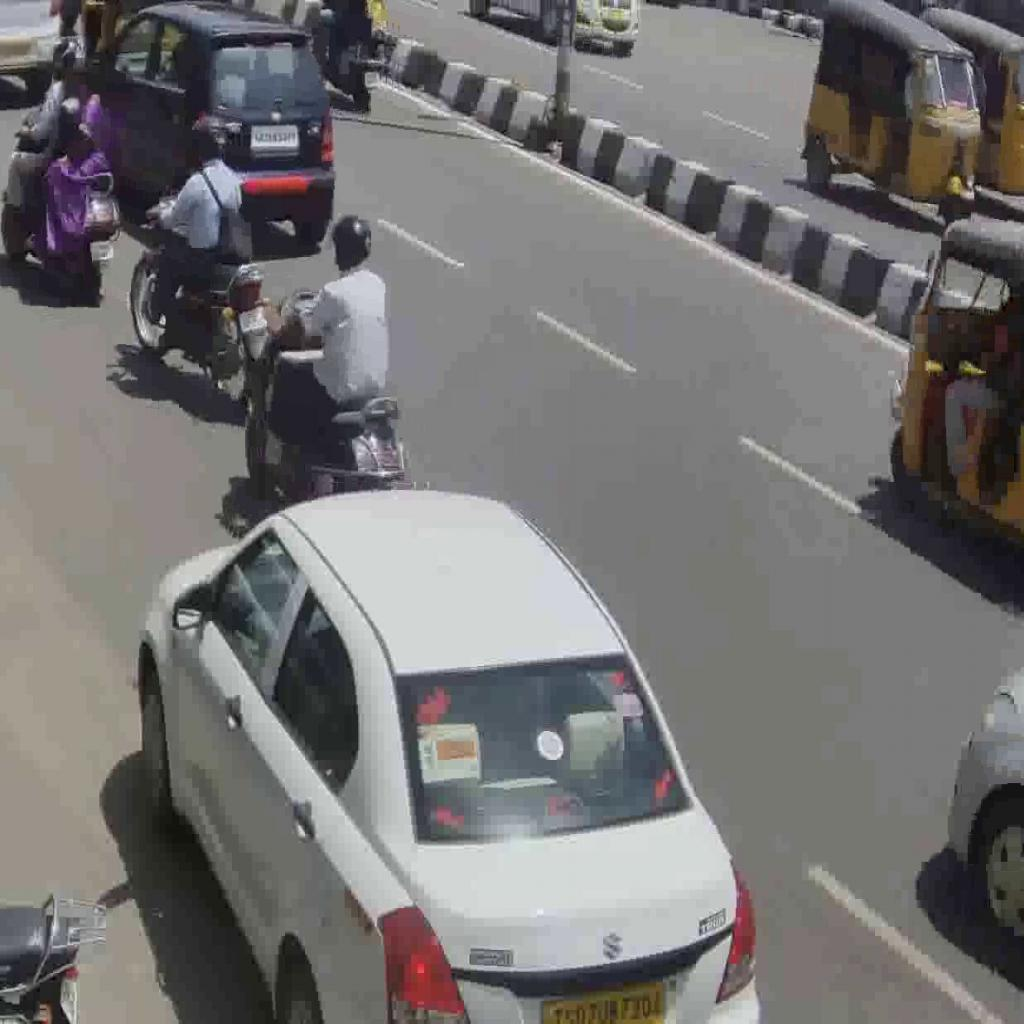bike: (244, 284, 408, 498), (129, 193, 272, 410), (2, 105, 120, 305)
helmet: (330, 210, 374, 274), (188, 112, 228, 166), (51, 38, 85, 82)
lisc: (238, 304, 267, 334), (90, 240, 114, 260)
no_helmet: (63, 58, 90, 96)
rider: (256, 210, 390, 490), (145, 112, 242, 352), (4, 38, 89, 239), (32, 58, 108, 260)
